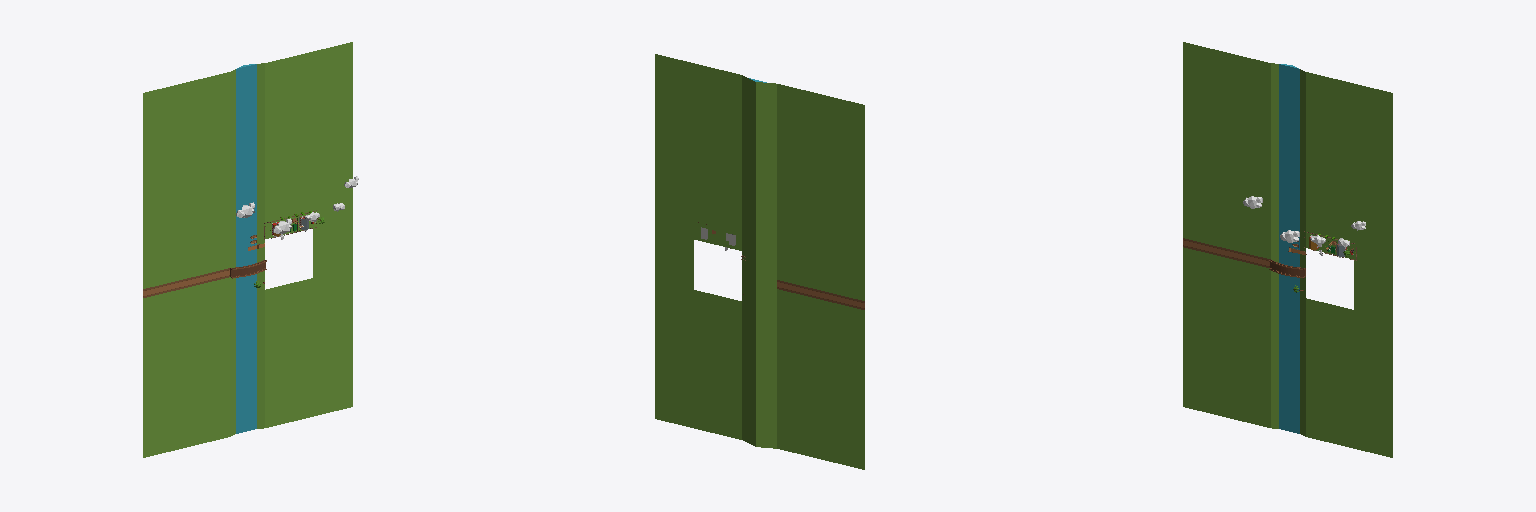
3 renders of one model, left to right at view 1: azimuth 30°, elevation 25°; view 2: azimuth 150°, elevation 25°; view 3: azimuth 330°, elevation 25°, orthographic.
Parts seen in each view (by area): view 1: SPW_Terrain_Grass_Flat.067_Plane.2874, SPW_Terrain_Grass_Flat.001_Plane.001, SPW_Terrain_Grass_Flat.004_Plane.004, SPW_Terrain_Grass_Flat.003_Plane.003, SPW_Terrain_River_Mid.001_Plane.2850, SPW_Terrain_Grass_Flat.002_Plane.002, SPW_Medieval_Road_01.001_Plane.2849; view 2: SPW_Terrain_Grass_Flat.067_Plane.2874, SPW_Terrain_Grass_Flat.001_Plane.001, SPW_Terrain_Grass_Flat.004_Plane.004, SPW_Terrain_River_Mid.001_Plane.2850, SPW_Terrain_Grass_Flat.003_Plane.003, SPW_Terrain_Grass_Flat.002_Plane.002, SPW_Medieval_Road_01.001_Plane.2849; view 3: SPW_Terrain_Grass_Flat.067_Plane.2874, SPW_Terrain_Grass_Flat.001_Plane.001, SPW_Terrain_Grass_Flat.004_Plane.004, SPW_Terrain_River_Mid.001_Plane.2850, SPW_Terrain_Grass_Flat.003_Plane.003, SPW_Terrain_Grass_Flat.002_Plane.002, SPW_Medieval_Road_01.001_Plane.2849.
Part boxes in pixels (x1,y1,x2,y2): SPW_Terrain_Grass_Flat.067_Plane.2874: (143,72,229,288); SPW_Terrain_Grass_Flat.001_Plane.001: (265,42,352,238); SPW_Terrain_Grass_Flat.004_Plane.004: (143,277,229,457); SPW_Terrain_Grass_Flat.003_Plane.003: (265,268,352,427); SPW_Terrain_River_Mid.001_Plane.2850: (230,63,264,436); SPW_Terrain_Grass_Flat.002_Plane.002: (313,218,352,277); SPW_Medieval_Road_01.001_Plane.2849: (143,268,229,297); SPW_Terrain_Grass_Flat.067_Plane.2874: (777,84,864,300); SPW_Terrain_Grass_Flat.001_Plane.001: (655,54,741,250); SPW_Terrain_Grass_Flat.004_Plane.004: (777,289,864,469); SPW_Terrain_River_Mid.001_Plane.2850: (742,75,776,448); SPW_Terrain_Grass_Flat.003_Plane.003: (655,280,741,439); SPW_Terrain_Grass_Flat.002_Plane.002: (655,230,693,289); SPW_Medieval_Road_01.001_Plane.2849: (777,280,864,309); SPW_Terrain_Grass_Flat.067_Plane.2874: (1183,42,1270,258); SPW_Terrain_Grass_Flat.001_Plane.001: (1306,72,1392,268); SPW_Terrain_Grass_Flat.004_Plane.004: (1183,247,1270,427); SPW_Terrain_River_Mid.001_Plane.2850: (1271,63,1305,436); SPW_Terrain_Grass_Flat.003_Plane.003: (1306,298,1392,457); SPW_Terrain_Grass_Flat.002_Plane.002: (1354,260,1392,318); SPW_Medieval_Road_01.001_Plane.2849: (1183,238,1270,267).
Size of the model in its own units: 369 by 615 by 71.26.
9 materials, 7 textured.